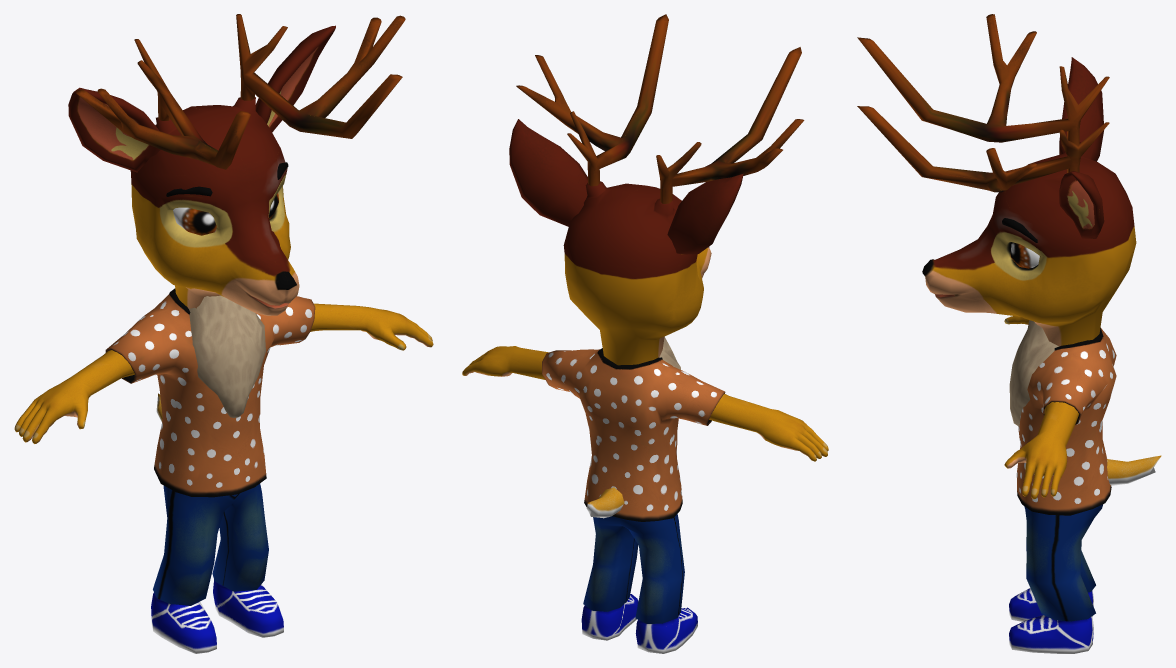
The model's file is Deer Character.fbx.
3 renders of one model, left to right at view 1: azimuth 30°, elevation 25°; view 2: azimuth 150°, elevation 25°; view 3: azimuth 270°, elevation 25°, orthographic. The views are drawn at different scales.
Parts seen in each view (by area): view 1: Cube.002; view 2: Cube.002; view 3: Cube.002.
Boxes of the visible parts, x1,y1,x2,y2 form: Cube.002: (14, 14, 433, 653); Cube.002: (462, 14, 828, 653); Cube.002: (857, 14, 1161, 653).
Bounding box in the file's own units: 169 × 241 × 119.
1 material, 1 textured.
